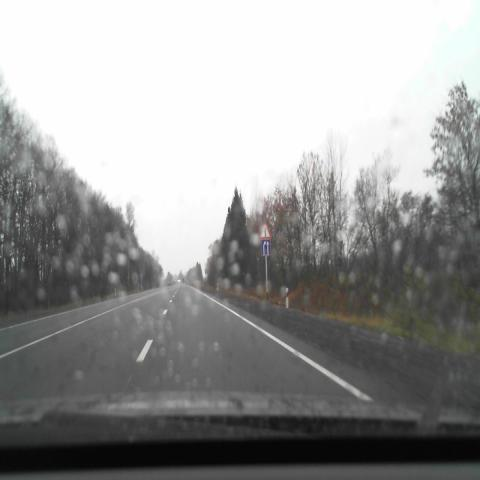2_3_3: (259, 220, 272, 239)
